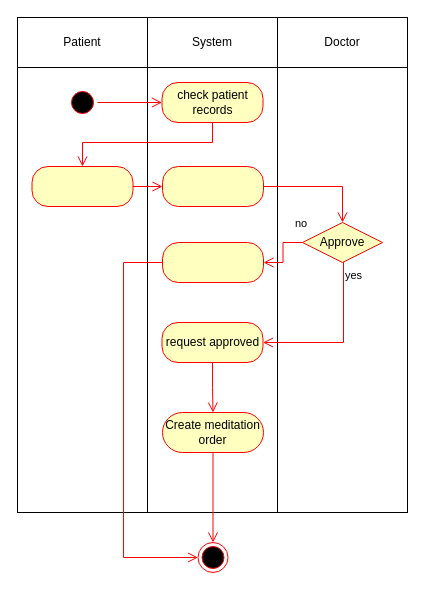
The diagram is 425 pixels wide and 590 high, and some of its shapes have lost their labels. The box of each missing label's shape, as (x1, y1, x2, y2) in pixels:
Create meditation request: (162, 166, 264, 206)
Request meditation: (31, 166, 133, 206)
request rejected: (162, 242, 264, 282)
